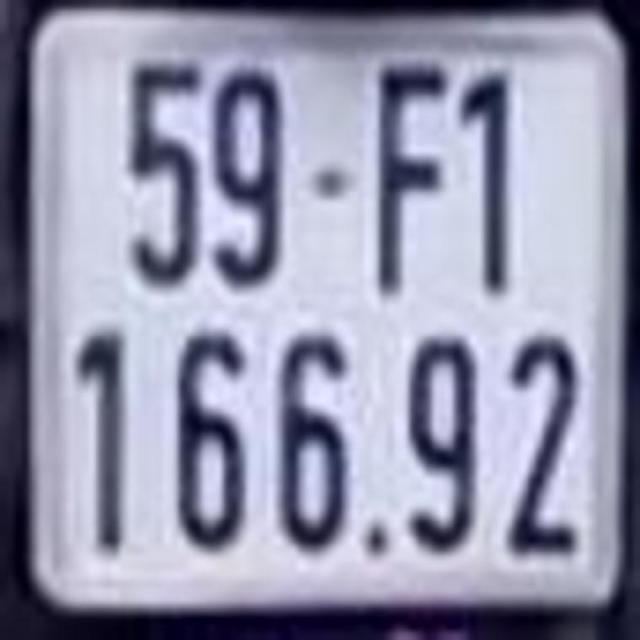1: (64, 321, 134, 560), (456, 58, 516, 292)
2: (501, 321, 584, 562)
5: (120, 50, 203, 288)
6: (163, 322, 249, 551), (268, 324, 354, 552)
9: (208, 54, 288, 294), (403, 324, 480, 554)
F: (372, 56, 450, 297)
